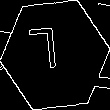L_S: (38, 28, 72, 82)
